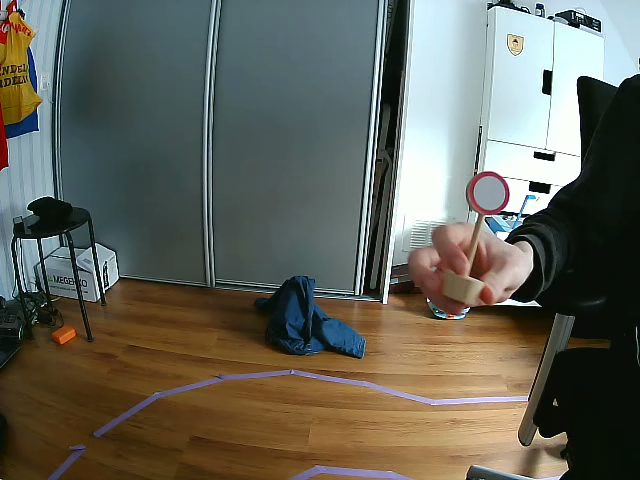wegdicht: (465, 171, 510, 218)
